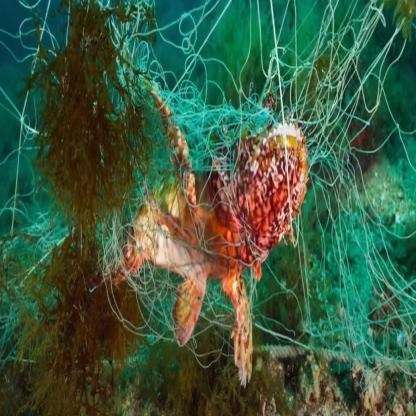net: (46, 42, 402, 336)
